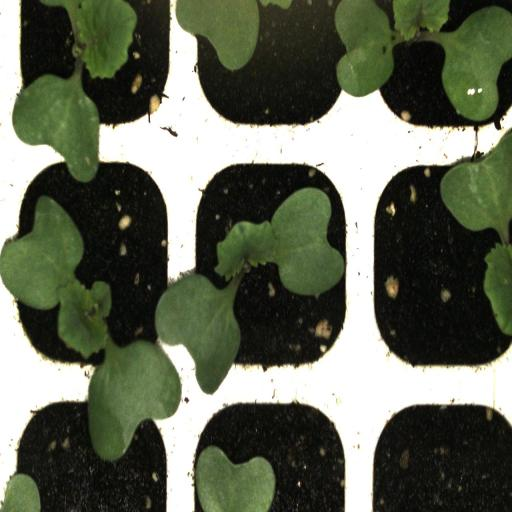Folha: (175, 0, 305, 73), (195, 445, 276, 512)
Germinacao: (180, 145, 361, 390), (5, 141, 180, 384), (363, 146, 512, 384), (7, 0, 180, 144), (357, 0, 512, 143)
